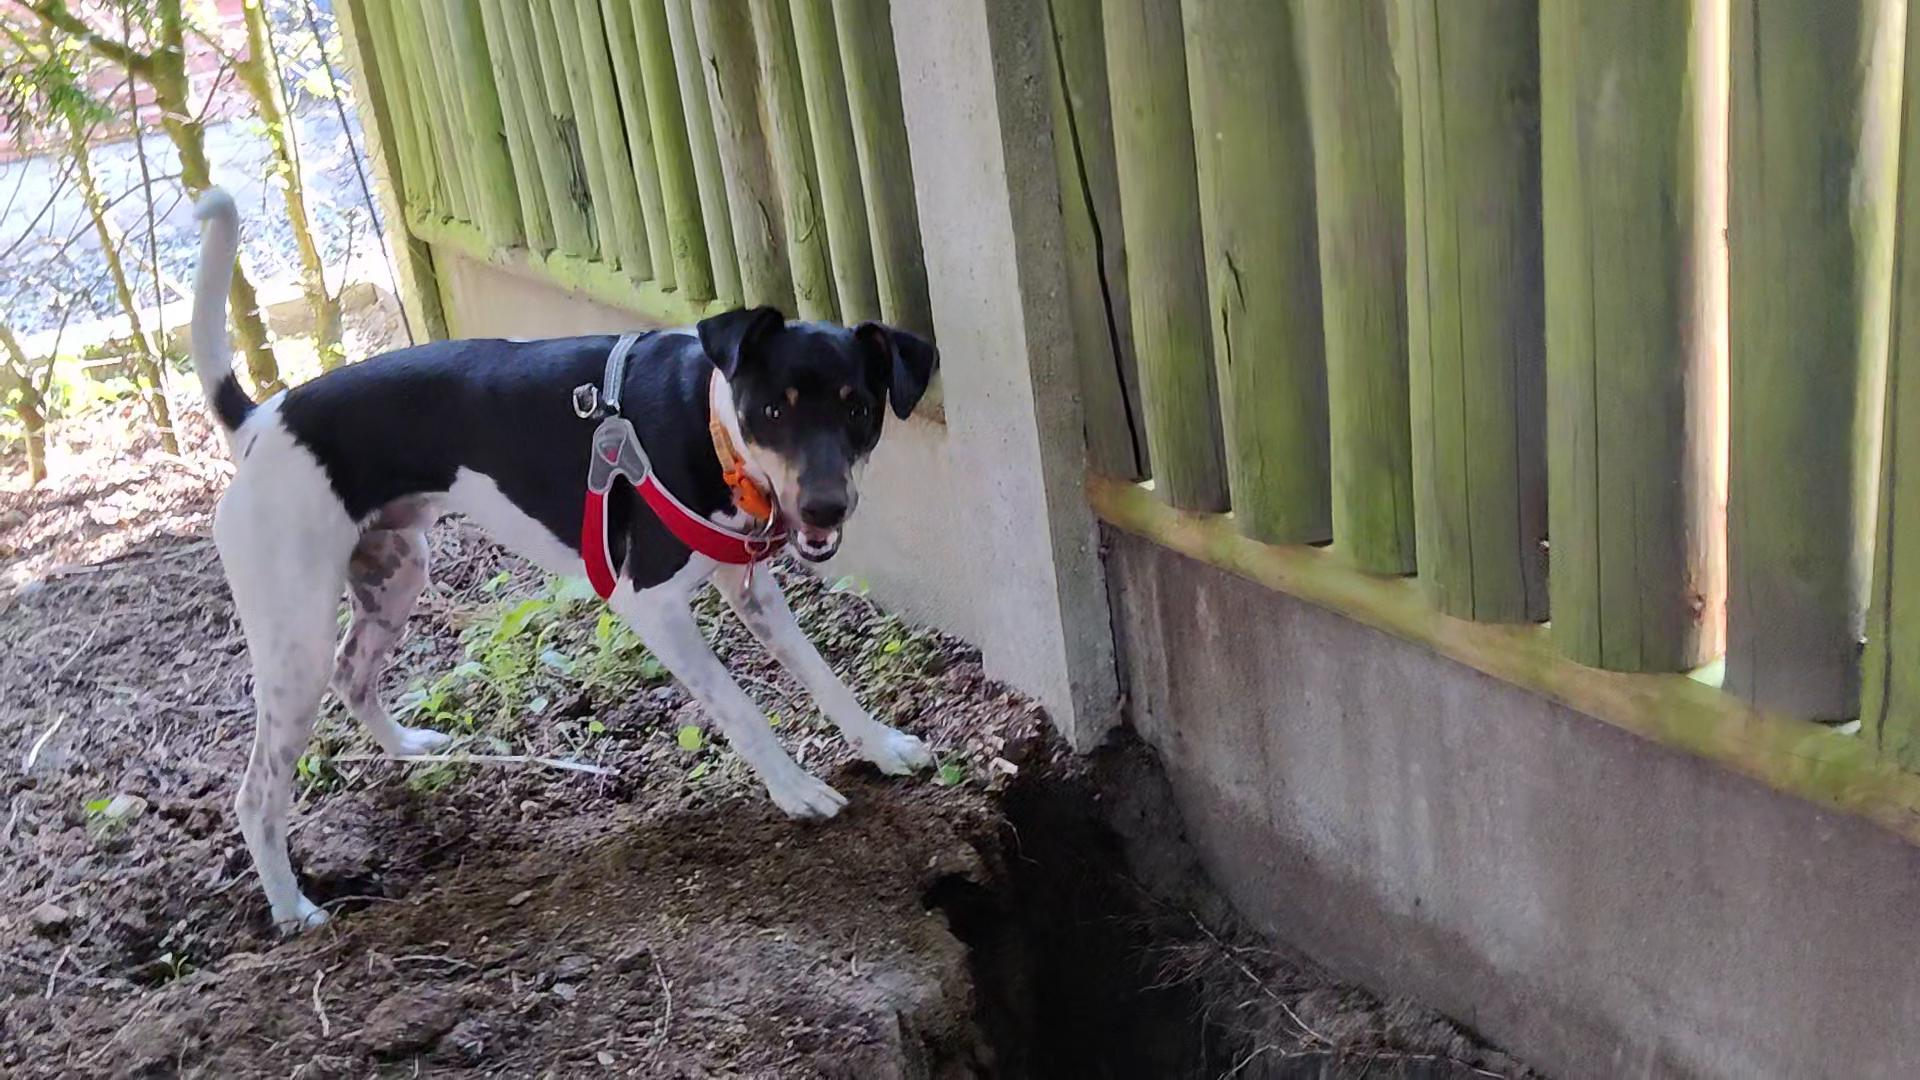Dog: (160, 152, 968, 935)
